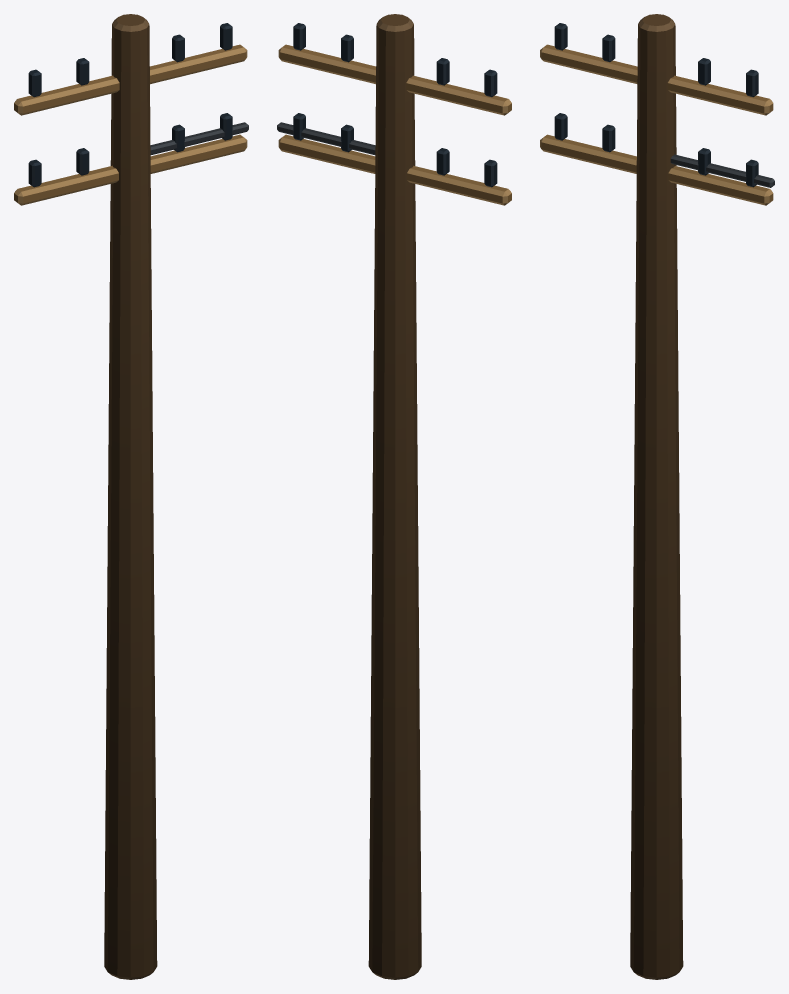
File: telegraph-pole-v1.glb
3 renders of one model, left to right at view 1: azimuth 30°, elevation 25°; view 2: azimuth 150°, elevation 25°; view 3: azimuth 330°, elevation 25°, orthographic.
Parts seen in each view (by area): view 1: telegraph-pole-v1.lod0; view 2: telegraph-pole-v1.lod0; view 3: telegraph-pole-v1.lod0.
Part boxes in pixels (left/top/right/bottom): telegraph-pole-v1.lod0: left=14, top=14, right=248, bottom=979; telegraph-pole-v1.lod0: left=277, top=14, right=511, bottom=979; telegraph-pole-v1.lod0: left=540, top=14, right=774, bottom=979.
Size of the model in its own units: 2.43 by 9.5 by 0.48.
